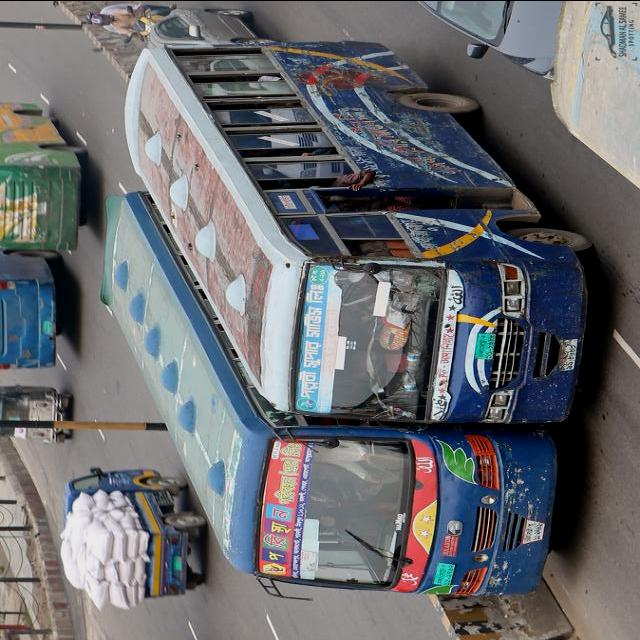bus: (100, 190, 564, 596), (123, 40, 599, 423)
